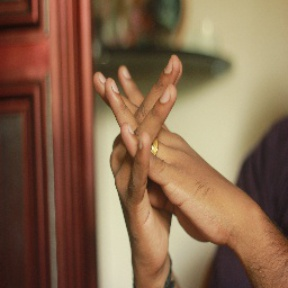W: (83, 48, 220, 225)
